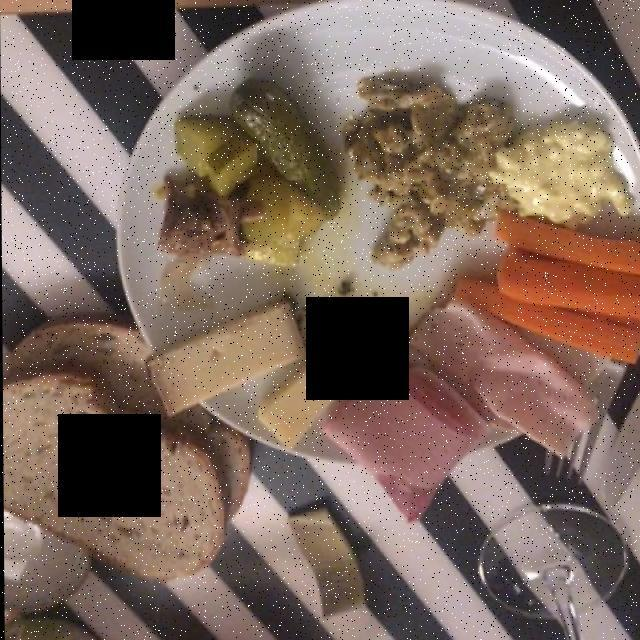bread: (10, 325, 247, 577)
carrot: (446, 210, 639, 371)
cheese: (149, 303, 346, 447), (482, 131, 634, 224)
cucumber-pickled: (222, 88, 349, 211)
eggs: (352, 87, 517, 274)
ham: (322, 299, 615, 535)
